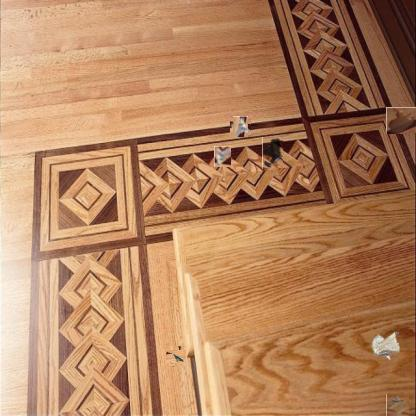dirty: (370, 330, 400, 360), (386, 394, 409, 416), (214, 146, 231, 167), (231, 118, 250, 136), (167, 348, 185, 365)
liquid: (386, 106, 416, 134), (262, 138, 283, 170)
